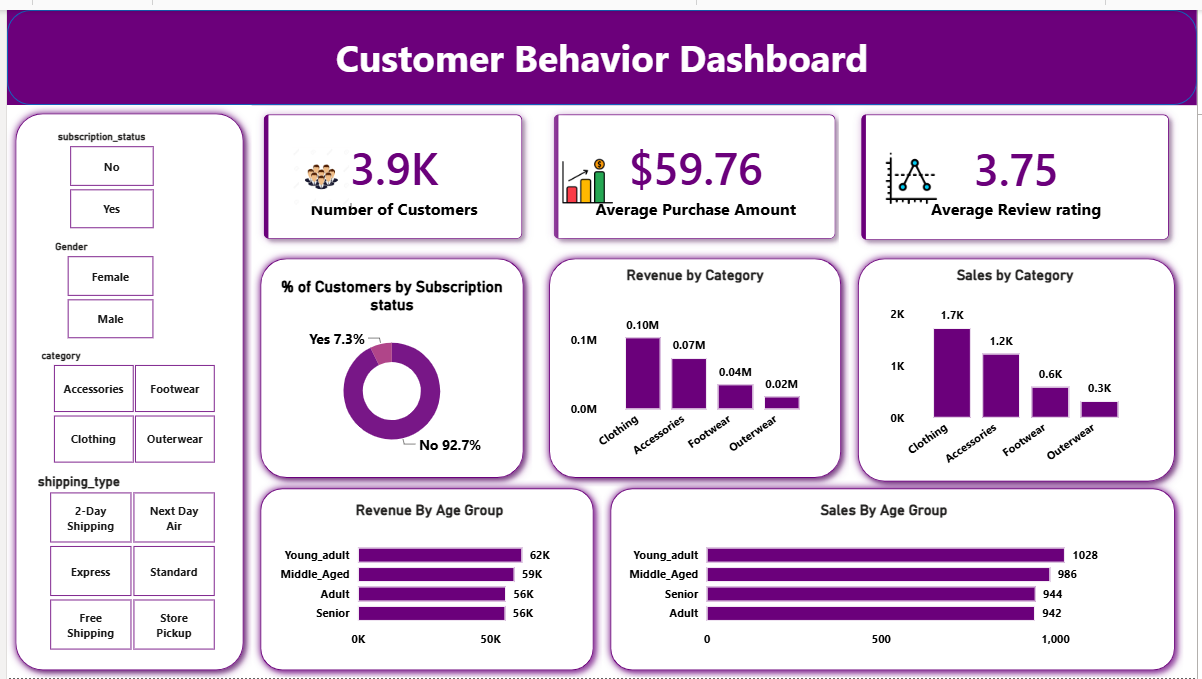

The dashboard page shown, as its layout file describes it:
{"tool":"powerbi","page":{"name":"Page 1","canvas":[1280,720],"ordinal":0},"visuals":[{"type":"cardVisual","fields":{"Data":["public customer.Average Purchase Amount"]},"box":[559.4,83.4,361.8,192.3],"z":0},{"type":"cardVisual","fields":{"Data":["public customer.Average Review rating"]},"box":[890.3,83.4,390,193.7],"z":1000},{"type":"cardVisual","fields":{"Data":["public customer.Number of Customers"]},"box":[247.4,83.4,336.2,192.3],"z":2000},{"type":"shape","box":[0,0,1280.3,102.2],"z":3000},{"type":"shape","box":[263.6,258.2,301.2,254.2],"z":4000},{"type":"donutChart","title":"% of Customers by Subscription status","fields":{"Category":["public customer.subscription_status"],"Y":["Sum(public customer.customer_id)"]},"box":[279.7,287.8,269,195],"z":5000},{"type":"shape","box":[574.2,258.2,332.2,254.2],"z":6000},{"type":"shape","box":[906.4,258.2,359.1,258.2],"z":7000},{"type":"clusteredColumnChart","title":"Revenue by Category","fields":{"Y":["Sum(public customer.purchase_amount)"],"Category":["public customer.category"]},"box":[601.1,275.7,278.4,217.9],"z":8000},{"type":"clusteredColumnChart","title":"Sales by Category","fields":{"Category":["public customer.category"],"Y":["CountNonNull(public customer.customer_id)"]},"box":[945.4,275.7,278.4,230],"z":9000},{"type":"shape","box":[0,102.2,263.6,617.3],"z":10000},{"type":"slicer","fields":{"Values":["public customer.subscription_status"]},"box":[41.7,125.1,139.9,117],"z":11000},{"type":"slicer","fields":{"Values":["public customer.gender"]},"box":[39,243.4,142.6,117],"z":12000},{"type":"slicer","fields":{"Values":["public customer.category"]},"box":[24.2,360.4,223.2,133.1],"z":13000},{"type":"slicer","fields":{"Values":["public customer.shipping_type"]},"box":[20.2,493.6,227.3,201.7],"z":14000},{"type":"clusteredBarChart","fields":{"Y":["Sum(public customer.purchase_amount)"],"Category":["public customer.age_group"]},"box":[287.8,528.5,322.8,166.8],"z":15000},{"type":"shape","box":[263.6,505.7,376.6,213.8],"z":16000},{"type":"clusteredBarChart","title":"Revenue By Age Group","fields":{"Y":["Sum(public customer.purchase_amount)"],"Category":["public customer.age_group"]},"box":[287.8,528.5,333.5,166.8],"z":17000},{"type":"shape","box":[640.1,505.7,625.3,213.8],"z":18000},{"type":"clusteredBarChart","title":"Sales By Age Group","fields":{"Category":["public customer.age_group"],"Y":["CountNonNull(public customer.customer_id)"]},"box":[663,528.5,560.8,166.8],"z":19000},{"type":"image","box":[302.6,147.9,71.3,63.2],"z":19001},{"type":"image","box":[945.4,147.9,55.1,65.9],"z":19002},{"type":"image","box":[586.3,157.3,76.7,53.8],"z":19003}]}

Visuals, with their boxes in screenshot pixels (x1, y1, x2, y2), scaled from the page's 1280x720 canvas onto the 1202x679 screenshot:
cardVisual - public customer.Average Purchase Amount: {"left": 525, "top": 79, "right": 865, "bottom": 260}
cardVisual - public customer.Average Review rating: {"left": 836, "top": 79, "right": 1201, "bottom": 261}
cardVisual - public customer.Number of Customers: {"left": 232, "top": 79, "right": 548, "bottom": 260}
shape: {"left": 0, "top": 0, "right": 1201, "bottom": 96}
shape: {"left": 248, "top": 243, "right": 530, "bottom": 483}
"% of Customers by Subscription status" donutChart: {"left": 263, "top": 271, "right": 515, "bottom": 455}
shape: {"left": 539, "top": 243, "right": 851, "bottom": 483}
shape: {"left": 851, "top": 243, "right": 1188, "bottom": 487}
"Revenue by Category" clusteredColumnChart: {"left": 564, "top": 260, "right": 826, "bottom": 465}
"Sales by Category" clusteredColumnChart: {"left": 888, "top": 260, "right": 1149, "bottom": 477}
shape: {"left": 0, "top": 96, "right": 248, "bottom": 678}
slicer - public customer.subscription_status: {"left": 39, "top": 118, "right": 171, "bottom": 228}
slicer - public customer.gender: {"left": 37, "top": 230, "right": 171, "bottom": 340}
slicer - public customer.category: {"left": 23, "top": 340, "right": 232, "bottom": 465}
slicer - public customer.shipping_type: {"left": 19, "top": 465, "right": 232, "bottom": 656}
clusteredBarChart - Sum(public customer.purchase_amount) x public customer.age_group: {"left": 270, "top": 498, "right": 573, "bottom": 656}
shape: {"left": 248, "top": 477, "right": 601, "bottom": 678}
"Revenue By Age Group" clusteredBarChart: {"left": 270, "top": 498, "right": 583, "bottom": 656}
shape: {"left": 601, "top": 477, "right": 1188, "bottom": 678}
"Sales By Age Group" clusteredBarChart: {"left": 623, "top": 498, "right": 1149, "bottom": 656}
image: {"left": 284, "top": 139, "right": 351, "bottom": 199}
image: {"left": 888, "top": 139, "right": 940, "bottom": 202}
image: {"left": 551, "top": 148, "right": 623, "bottom": 199}
